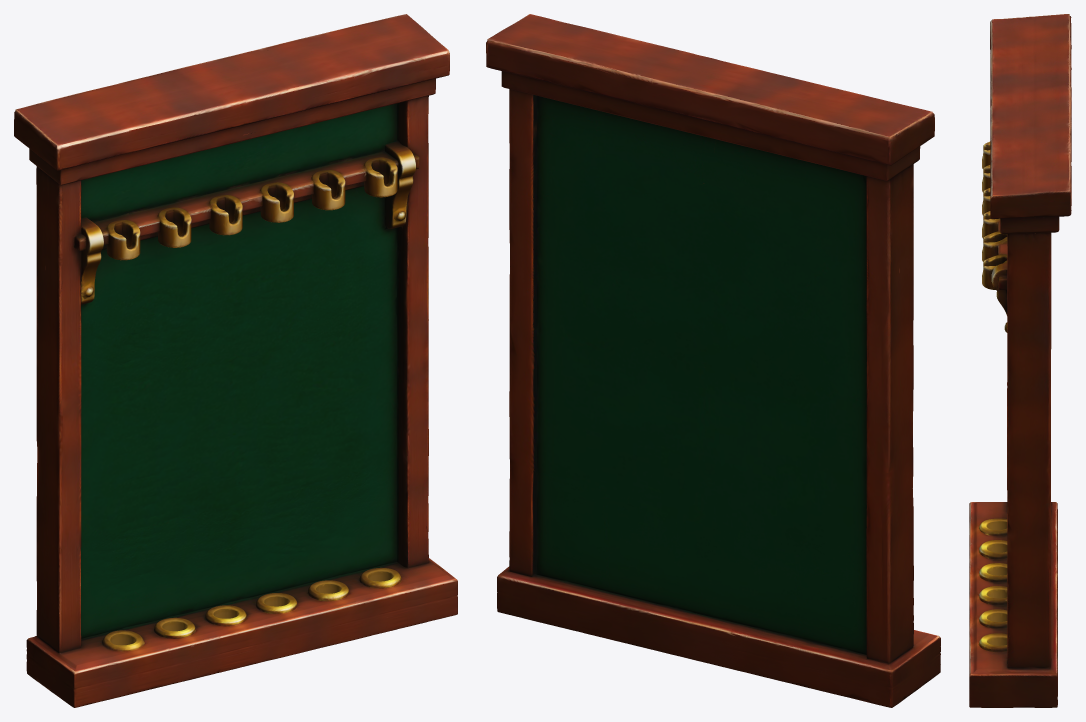
Rendered from cuepole-rack.glb.
The picture shows the model from 3 angles, left to right: view 1: azimuth 30°, elevation 25°; view 2: azimuth 150°, elevation 25°; view 3: azimuth 270°, elevation 25°; orthographic projection. The views are drawn at different scales.
Visible parts, largest first — view 1: tripo_node_9213a159-cff7-41cb-8fa8-4733f84e0620; view 2: tripo_node_9213a159-cff7-41cb-8fa8-4733f84e0620; view 3: tripo_node_9213a159-cff7-41cb-8fa8-4733f84e0620.
Boxes of the visible parts, box(x1,y1,x2,y2) form: tripo_node_9213a159-cff7-41cb-8fa8-4733f84e0620: box(14, 14, 457, 707); tripo_node_9213a159-cff7-41cb-8fa8-4733f84e0620: box(486, 14, 940, 707); tripo_node_9213a159-cff7-41cb-8fa8-4733f84e0620: box(969, 14, 1071, 707).
Size of the model in its own units: 0.7176 by 0.9778 by 0.1748.
Materials: 1 (1 with a texture image).
